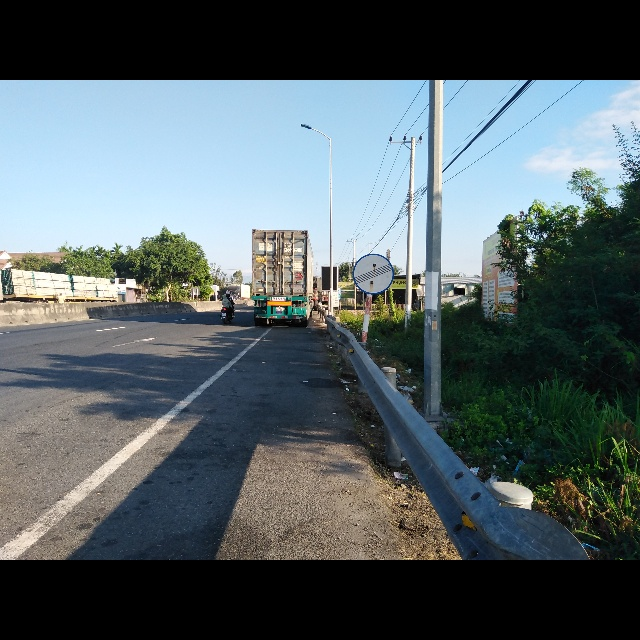Hết tất cả các lệnh cấm: (352, 252, 394, 294)
